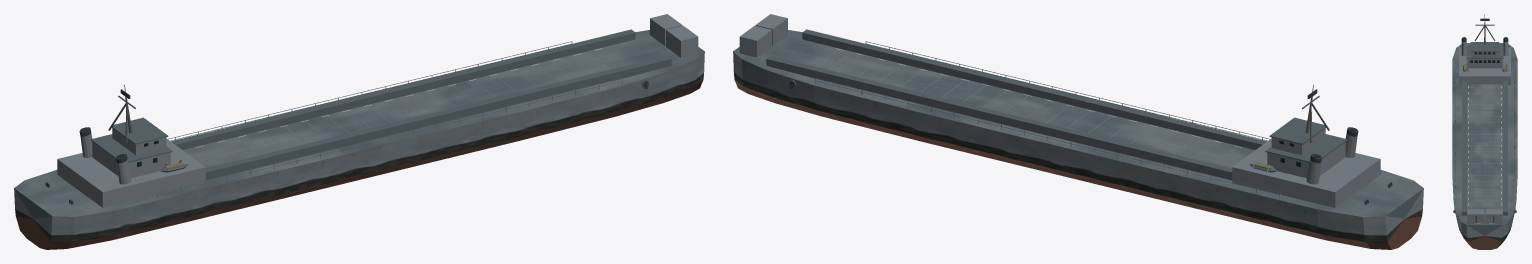
File: landing-ship.glb
3 views of the same model, side by side, from view 1: azimuth 30°, elevation 25°; view 2: azimuth 150°, elevation 25°; view 3: azimuth 270°, elevation 25° (orthographic). The views are drawn at different scales.
Visible parts, largest first — view 1: hullPaint, deckPaint, shade, steel, redLead; view 2: hullPaint, deckPaint, shade, steel, redLead; view 3: deckPaint, steel, shade, hullPaint, redLead, deck, pale, window, dark, boot, rope, canvas.
Boxes of the visible parts, x1,y1,x2,y2 form: hullPaint: (46, 51, 704, 249); deckPaint: (14, 30, 704, 217); shade: (90, 29, 671, 195); steel: (14, 14, 698, 234); redLead: (16, 216, 50, 249); hullPaint: (733, 51, 1391, 249); deckPaint: (733, 30, 1423, 217); shade: (766, 29, 1347, 195); steel: (739, 14, 1423, 234); redLead: (1387, 216, 1421, 249); deckPaint: (1452, 43, 1517, 224); steel: (1454, 41, 1515, 237); shade: (1454, 19, 1515, 215); hullPaint: (1453, 202, 1516, 247); redLead: (1468, 236, 1501, 249); deck: (1467, 225, 1502, 235); pale: (1468, 86, 1501, 205); window: (1470, 52, 1499, 62); dark: (1461, 18, 1508, 222); boot: (1467, 236, 1502, 241); rope: (1474, 14, 1495, 40); canvas: (1463, 64, 1506, 69).
Size of the model in its own units: 100 by 19.85 by 15.1.
Materials: 16 (2 with a texture image).
